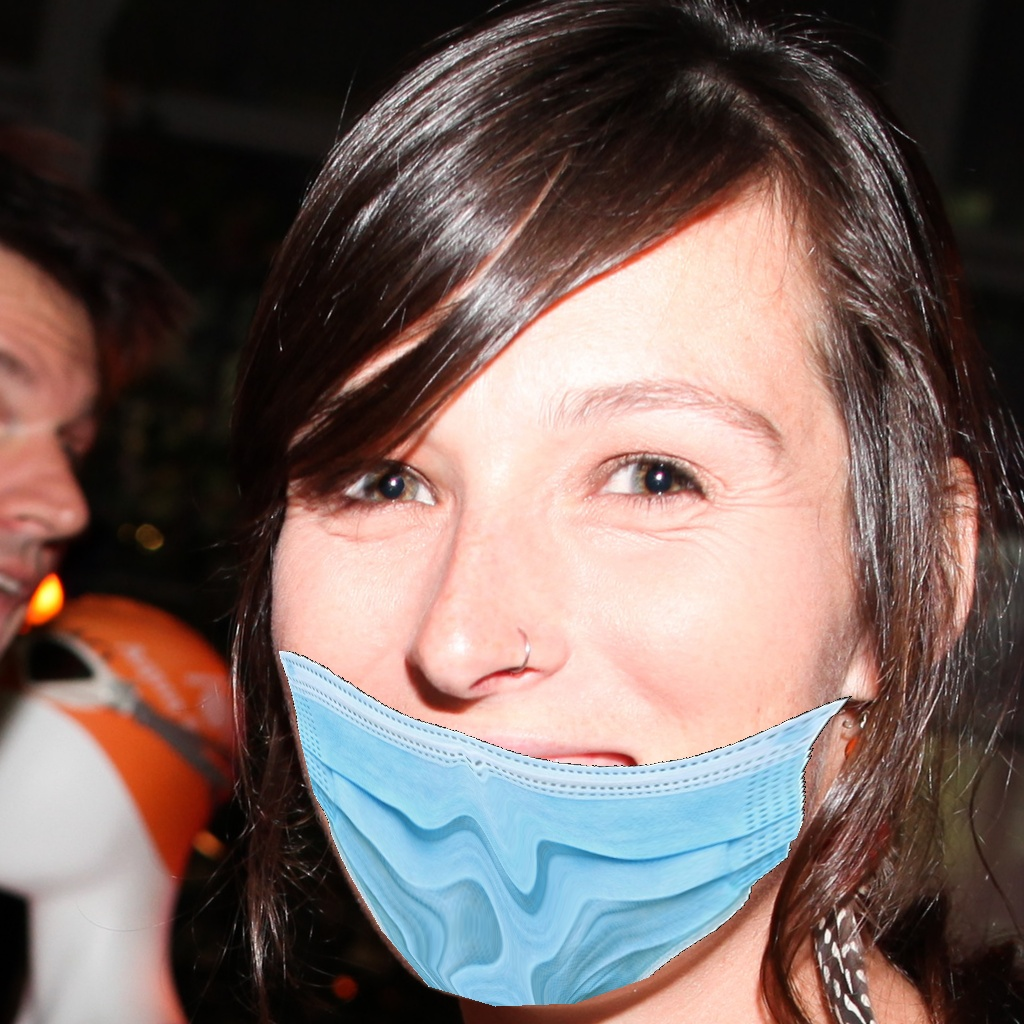mask_weared_incorrect: (282, 377, 832, 1007)
